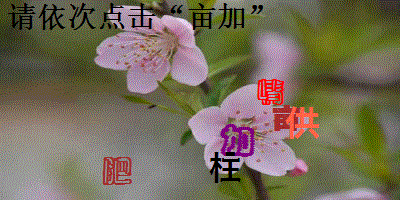result: (188, 2, 247, 33)
text: (218, 122, 256, 159), (286, 105, 322, 141), (208, 150, 242, 185), (99, 155, 134, 188), (255, 77, 285, 107), (271, 105, 302, 133)
